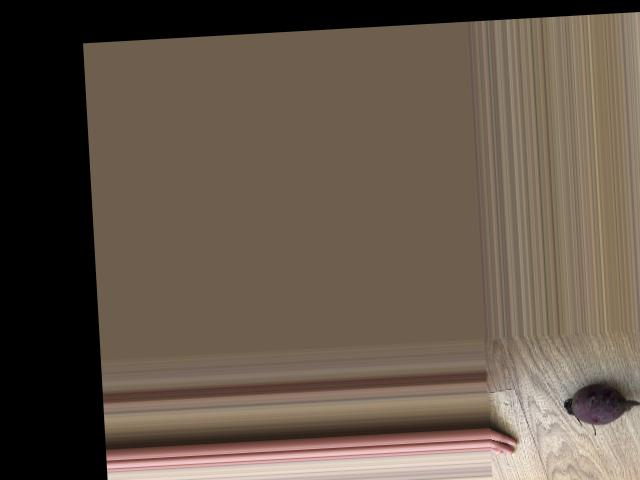beet: (564, 380, 640, 436)
